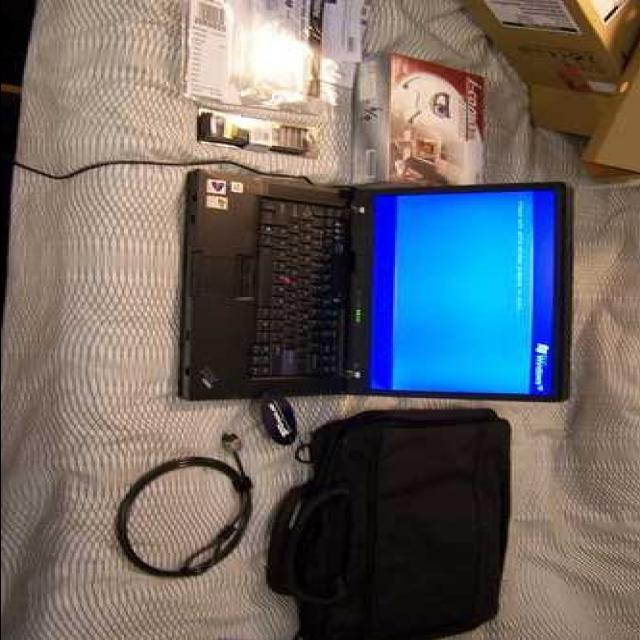laptop: (227, 174, 563, 405)
